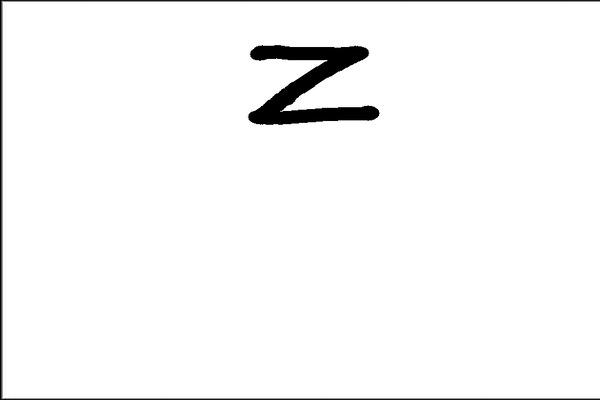Z: (232, 33, 384, 129)
